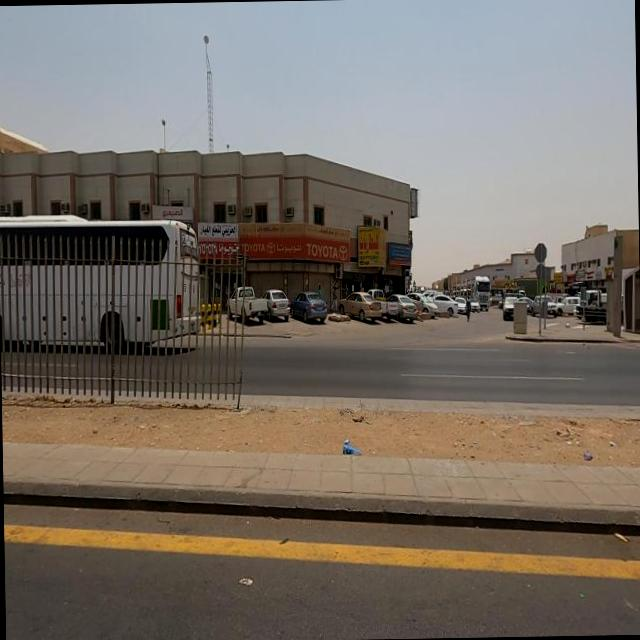debris: (322, 400, 378, 490), (547, 424, 623, 482)
